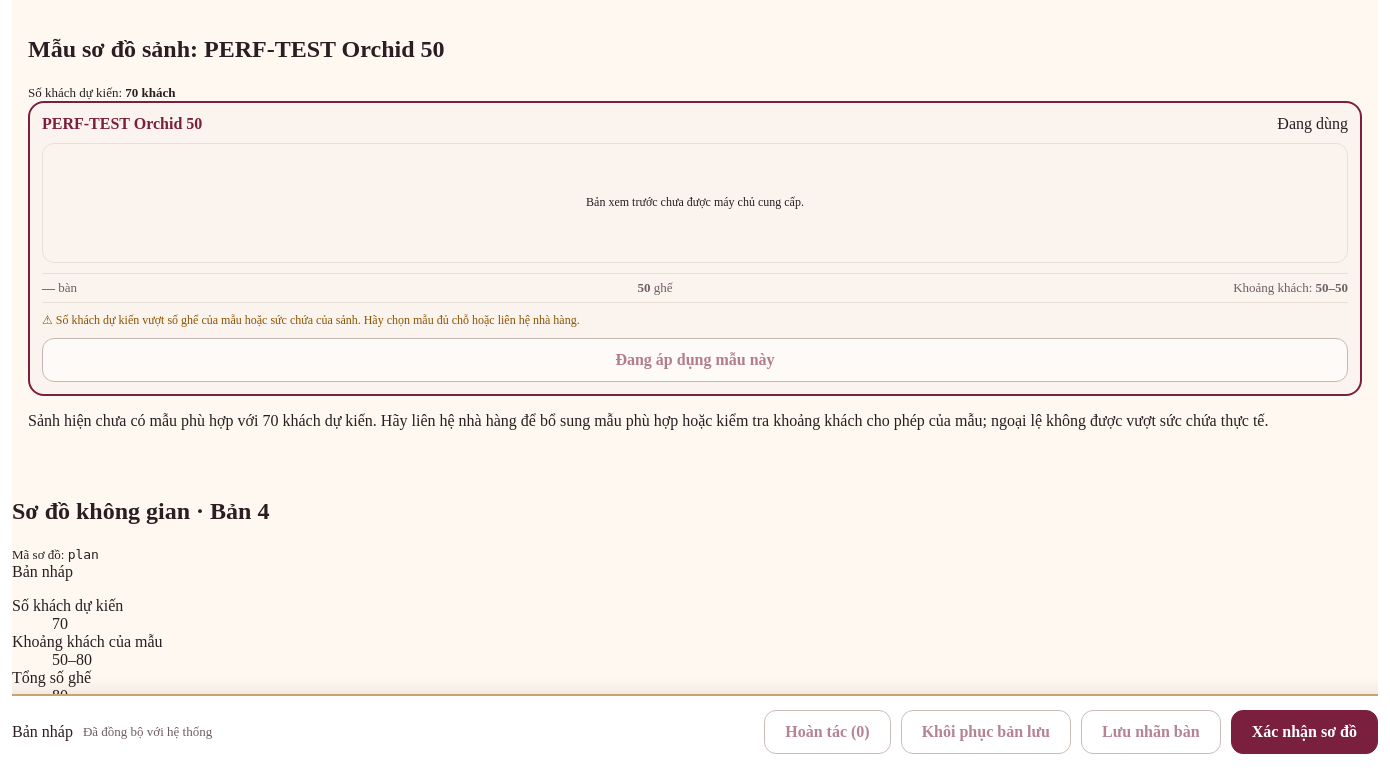
seating confirmation capacity › allows a compatible layout with no named guests and sends both server revisions
Click the button "Xác nhận sơ đồ" at [1304, 732], box [1231,710,1378,754]
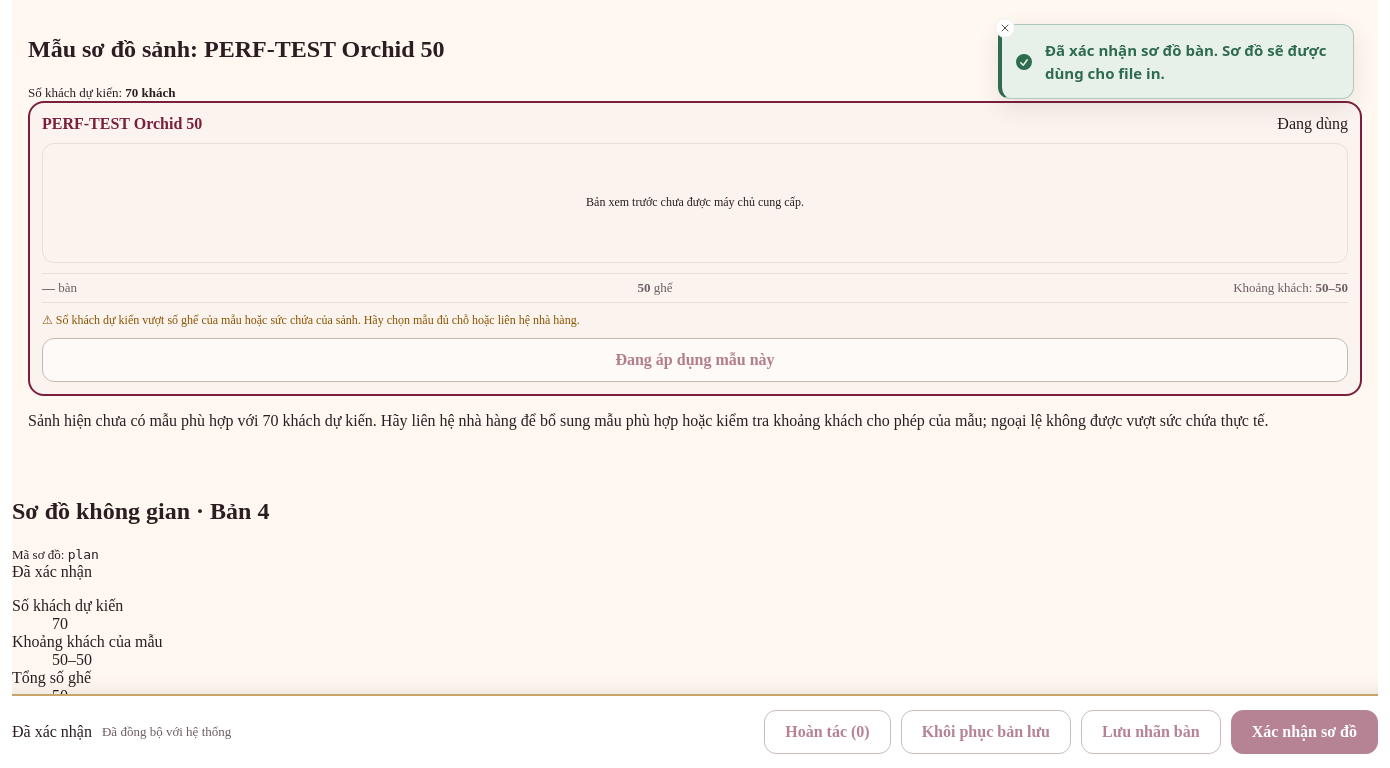
Now the text "Đã xác nhận sơ đồ bàn. Sơ đồ sẽ được dùng cho file in." is shown, box [1045,39,1337,84]
